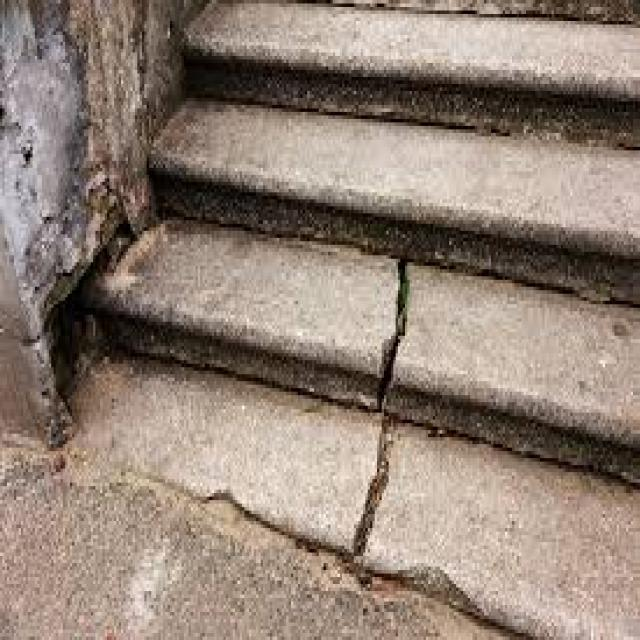Crack: (342, 413, 396, 549), (370, 248, 410, 406)
